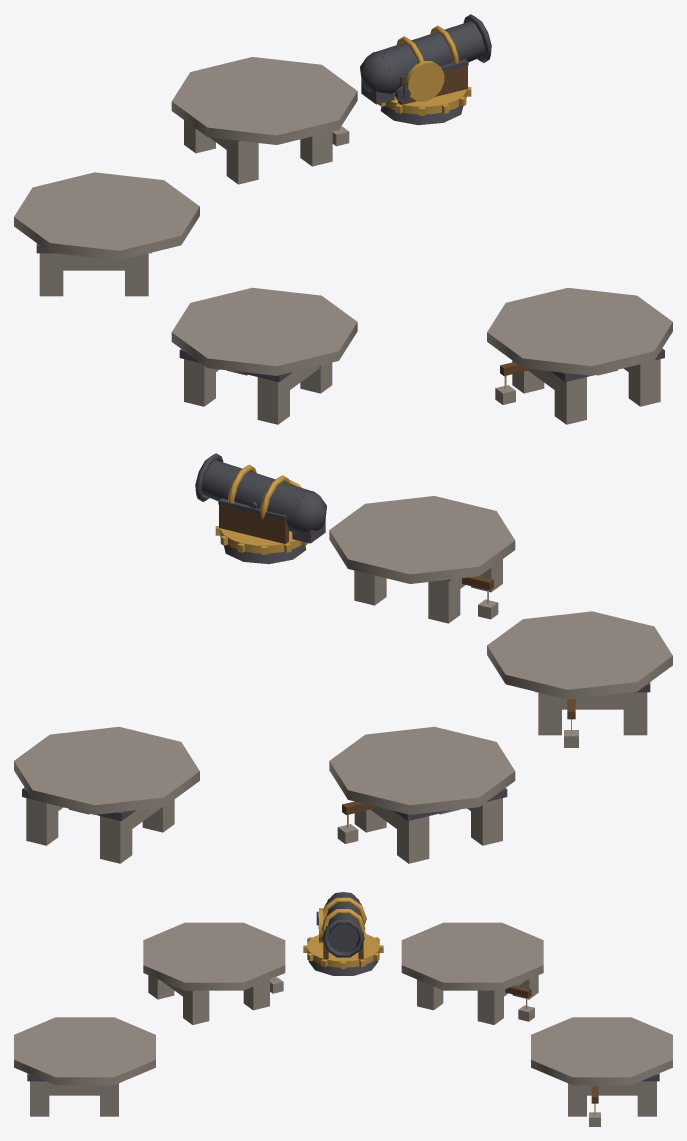
The model's file is base_builder_weapon_3.glb.
3 renders of one model, top to bottom at view 1: azimuth 30°, elevation 25°; view 2: azimuth 150°, elevation 25°; view 3: azimuth 270°, elevation 25°, orthographic. The views are drawn at different scales.
Visible parts, largest first — view 1: tower_slot_3_plate, tower_slot_2_plate, tower_slot_4_plate, tower_slot_1_plate, barrel_body, tower_slot_2_pier_1, tower_slot_4_pier_0, tower_slot_4_pier_1, tower_slot_3_pier_3, tower_slot_2_pier_0, gear_elevation, barrel_breech (+10 smaller); view 2: tower_slot_4_plate, tower_slot_1_plate, tower_slot_3_plate, tower_slot_2_plate, barrel_body, carriage_cheek_r, tower_slot_1_pier_0, tower_slot_3_pier_1, tower_slot_3_pier_0, tower_slot_4_pier_2, tower_slot_1_pier_1, barrel (+8 smaller); view 3: tower_slot_1_plate, tower_slot_2_plate, tower_slot_3_plate, tower_slot_4_plate, barrel, barrel_body, weapon_mount_ring, tower_slot_1_pier_2, tower_slot_2_pier_3, tower_slot_3_pier_0, tower_slot_4_pier_1, tower_slot_1_pier_3 (+7 smaller).
Part boxes in pixels (x1=…): tower_slot_3_plate: x1=171, y1=57, x2=357, y2=144; tower_slot_2_plate: x1=171, y1=287, x2=357, y2=375; tower_slot_4_plate: x1=487, y1=287, x2=672, y2=375; tower_slot_1_plate: x1=14, y1=172, x2=199, y2=260; barrel_body: x1=375, y1=21, x2=484, y2=93; tower_slot_2_pier_1: x1=257, y1=375, x2=289, y2=424; tower_slot_4_pier_0: x1=554, y1=375, x2=586, y2=424; tower_slot_4_pier_1: x1=628, y1=359, x2=660, y2=406; tower_slot_3_pier_3: x1=226, y1=139, x2=258, y2=184; tower_slot_2_pier_0: x1=184, y1=359, x2=215, y2=406; gear_elevation: x1=405, y1=61, x2=444, y2=101; barrel_breech: x1=360, y1=52, x2=395, y2=94; tower_slot_4_plate: x1=329, y1=496, x2=515, y2=583; tower_slot_1_plate: x1=329, y1=726, x2=515, y2=814; tower_slot_3_plate: x1=14, y1=726, x2=199, y2=814; tower_slot_2_plate: x1=487, y1=611, x2=672, y2=699; barrel_body: x1=202, y1=460, x2=311, y2=532; carriage_cheek_r: x1=219, y1=504, x2=288, y2=543; tower_slot_1_pier_0: x1=397, y1=814, x2=429, y2=863; tower_slot_3_pier_1: x1=100, y1=814, x2=132, y2=863; tower_slot_3_pier_0: x1=26, y1=798, x2=58, y2=845; tower_slot_4_pier_2: x1=428, y1=578, x2=460, y2=623; tower_slot_1_pier_1: x1=471, y1=798, x2=502, y2=845; barrel: x1=195, y1=453, x2=290, y2=520; tower_slot_1_plate: x1=401, y1=922, x2=543, y2=990; tower_slot_2_plate: x1=143, y1=922, x2=285, y2=990; tower_slot_3_plate: x1=531, y1=1017, x2=672, y2=1085; tower_slot_4_plate: x1=14, y1=1017, x2=155, y2=1085; barrel: x1=321, y1=897, x2=366, y2=957; barrel_body: x1=326, y1=893, x2=360, y2=951; weapon_mount_ring: x1=307, y1=933, x2=379, y2=967; tower_slot_1_pier_2: x1=477, y1=990, x2=503, y2=1024; tower_slot_2_pier_3: x1=183, y1=990, x2=209, y2=1024; tower_slot_3_pier_0: x1=637, y1=1081, x2=656, y2=1116; tower_slot_4_pier_1: x1=30, y1=1081, x2=49, y2=1116; tower_slot_1_pier_3: x1=417, y1=979, x2=443, y2=1010.
Size of the model in its own units: 1.06 by 0.6306 by 1.89.
